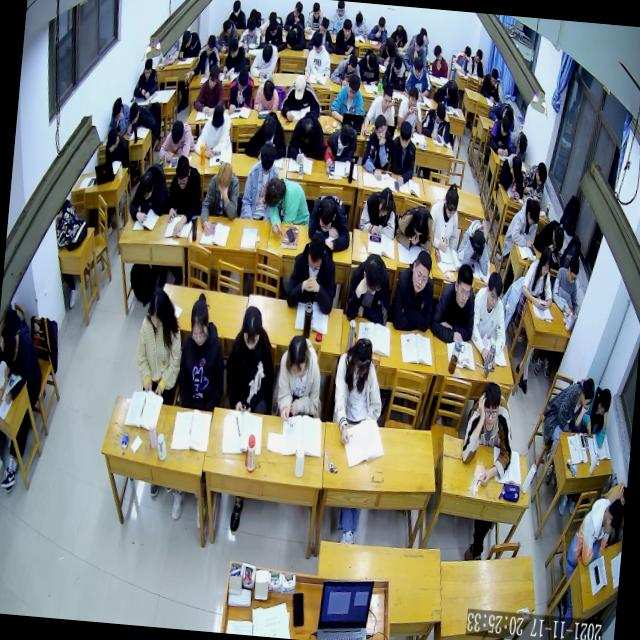bow: (457, 377, 518, 489), (260, 172, 313, 240), (304, 188, 354, 252), (127, 160, 171, 228), (285, 108, 329, 168), (243, 106, 290, 162), (393, 200, 438, 254), (280, 70, 324, 124), (454, 217, 494, 276), (156, 116, 199, 166), (327, 50, 362, 88), (534, 216, 566, 253), (125, 98, 158, 133), (432, 76, 461, 110), (486, 98, 516, 130), (178, 28, 202, 61), (374, 34, 398, 66), (283, 22, 308, 52), (388, 19, 409, 49)
down: (0, 316, 46, 407), (186, 298, 212, 348), (238, 303, 264, 352), (282, 334, 308, 381), (349, 336, 374, 384), (361, 250, 386, 296), (146, 287, 168, 332), (600, 497, 624, 538), (305, 230, 328, 272), (262, 173, 288, 210), (317, 193, 337, 233), (256, 142, 278, 174), (174, 154, 192, 192), (1, 326, 19, 363), (442, 185, 460, 220), (136, 170, 155, 203), (215, 161, 234, 193), (468, 225, 486, 258), (594, 386, 611, 420), (298, 114, 316, 146), (376, 186, 394, 218), (410, 208, 429, 237), (524, 198, 541, 228), (260, 112, 277, 142), (336, 120, 353, 150), (538, 246, 553, 278), (564, 254, 580, 284), (210, 102, 226, 132), (104, 122, 120, 151), (345, 71, 361, 100), (169, 118, 185, 146), (397, 120, 413, 148), (509, 152, 524, 181), (379, 82, 394, 111), (235, 65, 250, 94), (550, 225, 566, 252), (533, 160, 548, 188), (292, 71, 306, 100), (261, 78, 276, 104), (203, 31, 217, 58), (433, 98, 448, 123), (126, 100, 140, 126), (206, 62, 220, 88), (259, 42, 274, 66), (498, 112, 512, 136), (412, 56, 426, 80), (310, 31, 324, 54), (516, 129, 529, 153), (227, 37, 240, 60), (180, 28, 193, 50), (444, 80, 458, 100), (142, 56, 154, 79), (340, 18, 352, 40), (390, 54, 402, 76), (220, 16, 232, 36), (267, 18, 279, 38), (318, 16, 330, 36), (346, 52, 358, 72), (364, 52, 376, 72), (246, 16, 256, 39), (384, 39, 396, 58), (324, 154, 336, 173), (353, 8, 364, 28), (413, 34, 424, 54), (394, 23, 405, 43), (432, 43, 443, 62), (231, 0, 243, 17), (490, 66, 500, 86), (462, 44, 472, 64), (291, 0, 302, 18), (311, 1, 321, 20), (376, 14, 386, 33), (473, 47, 483, 65), (335, 1, 345, 17)
lookup: (478, 379, 503, 434), (408, 248, 432, 294), (452, 262, 475, 310), (484, 270, 504, 312), (372, 113, 389, 143), (404, 85, 420, 111)
sit: (174, 290, 232, 413), (131, 282, 188, 402), (329, 334, 387, 448), (222, 302, 280, 414), (282, 226, 340, 314), (272, 330, 326, 424), (564, 493, 626, 572), (386, 246, 439, 336), (427, 259, 479, 347), (468, 266, 512, 364), (342, 248, 394, 328), (238, 138, 283, 224), (162, 152, 205, 242), (196, 158, 241, 238), (541, 370, 597, 433), (193, 98, 236, 160), (577, 384, 613, 457), (426, 182, 463, 252), (519, 245, 557, 312), (360, 111, 396, 181), (386, 118, 419, 190), (502, 193, 542, 249), (361, 80, 398, 140), (328, 68, 368, 123), (358, 182, 398, 236), (550, 252, 583, 314), (321, 120, 358, 174), (192, 62, 226, 117), (224, 63, 256, 117), (402, 50, 436, 100), (419, 94, 454, 141), (497, 147, 528, 200), (395, 81, 427, 132), (190, 32, 223, 81), (303, 29, 334, 76), (486, 110, 516, 156), (102, 124, 132, 168), (520, 158, 548, 204), (248, 40, 280, 80), (133, 52, 160, 98), (379, 52, 408, 94), (220, 36, 247, 80), (403, 30, 429, 73), (252, 75, 280, 114), (260, 12, 288, 50), (308, 15, 336, 53), (333, 16, 359, 56), (356, 45, 383, 83), (236, 12, 263, 49), (215, 16, 240, 54), (479, 64, 504, 101), (282, 0, 307, 34), (365, 12, 390, 46), (429, 42, 450, 80), (326, 1, 348, 36), (452, 42, 476, 74), (304, 0, 325, 35), (508, 128, 529, 162), (468, 46, 486, 78), (349, 7, 368, 37), (227, 0, 248, 27)
